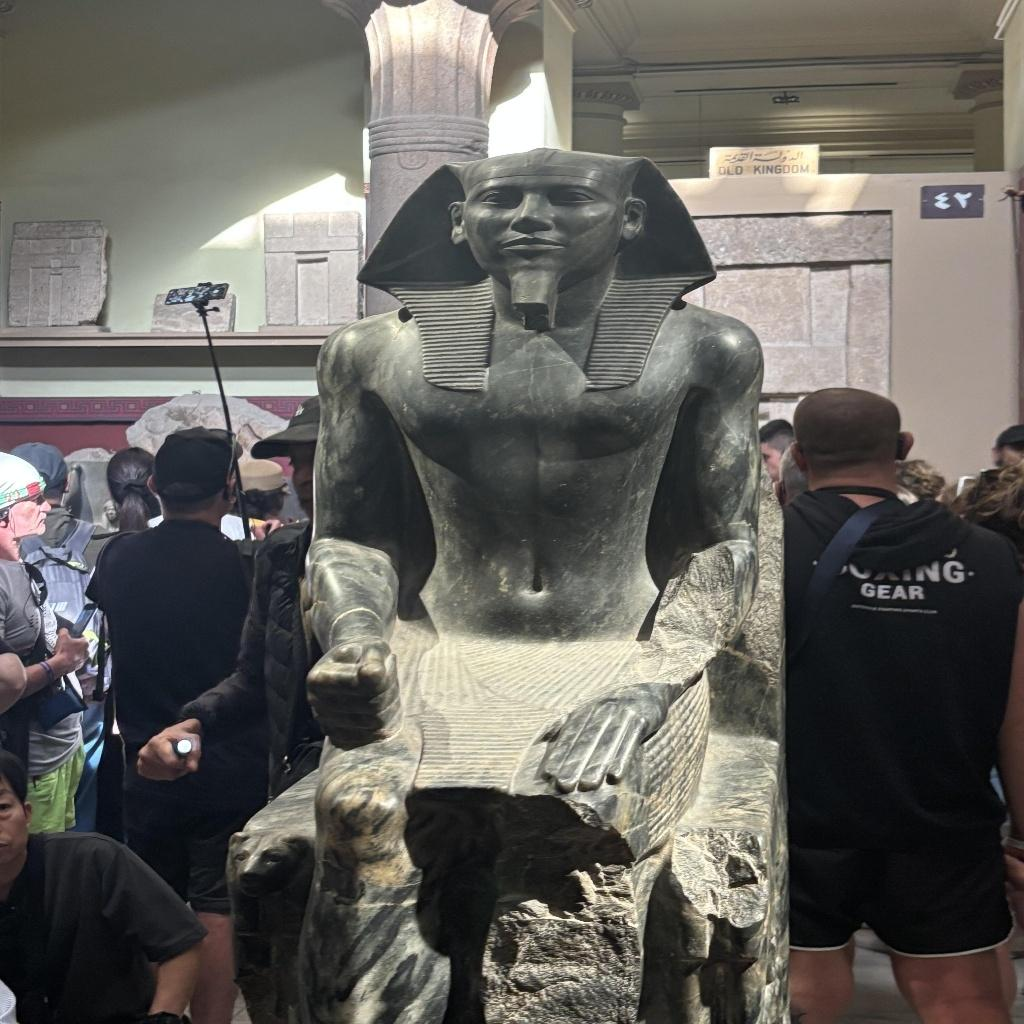Statue of Khafre: (291, 148, 773, 1016)
